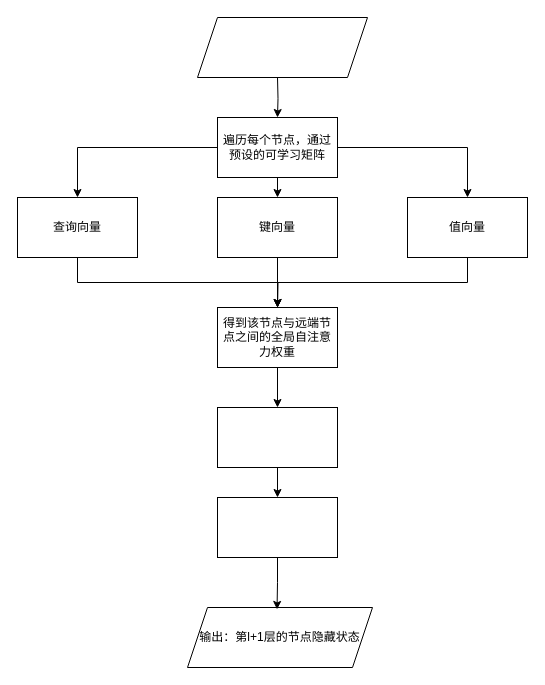
Image size: 545x685. Some labels were removed from this diagram. Here are the shapes that lost their labels. From the top down, the box of each, then its label:
(196, 16, 368, 78): 输入：局部中间特征向量
(216, 406, 338, 468): 将全图尺度上的值向量进行加权汇聚
(216, 496, 338, 558): 遍历所有节点后，完成第l层节点特征的更新
